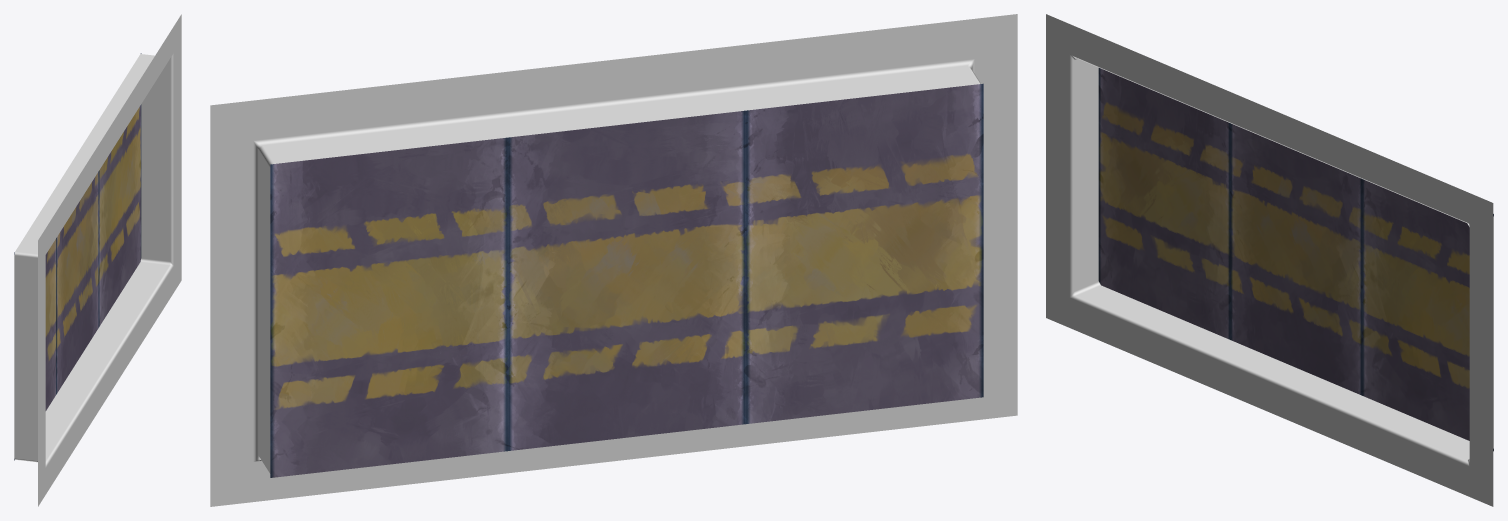
File: SM_TrimWall_08_Corner.fbx
3 renders of one model, left to right at view 1: azimuth 30°, elevation 25°; view 2: azimuth 150°, elevation 25°; view 3: azimuth 270°, elevation 25°, orthographic. The views are drawn at different scales.
Parts seen in each view (by area): view 1: SM_TrimWall_08_Corner_Lower; view 2: SM_TrimWall_08_Corner_Lower; view 3: SM_TrimWall_08_Corner_Lower.
Boxes of the visible parts, left/top/right/bottom form: SM_TrimWall_08_Corner_Lower: left=14, top=14, right=181, bottom=506; SM_TrimWall_08_Corner_Lower: left=210, top=14, right=1017, bottom=506; SM_TrimWall_08_Corner_Lower: left=1046, top=14, right=1493, bottom=506.
Size of the model in its own units: 401 by 300 by 401.
